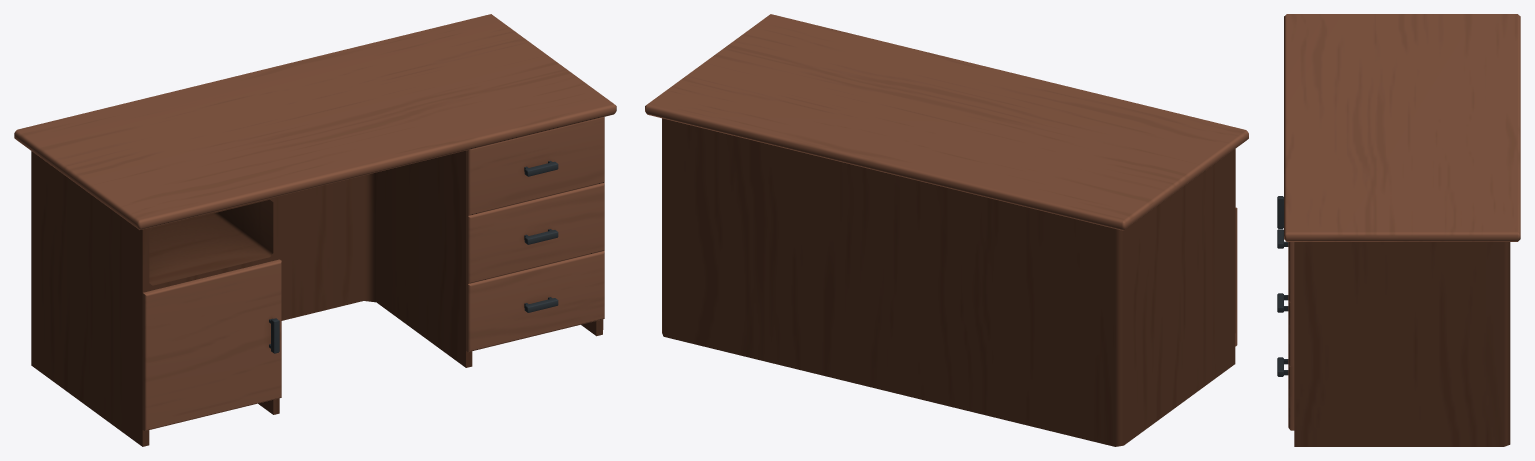
Rendered from Bureau.fbx.
3 renders of one model, left to right at view 1: azimuth 30°, elevation 25°; view 2: azimuth 150°, elevation 25°; view 3: azimuth 270°, elevation 25°, orthographic. The views are drawn at different scales.
Visible parts, largest first — view 1: BureauBase, CabinetDoor, Drawer3, Drawer2, Drawer1; view 2: BureauBase; view 3: BureauBase, Drawer2, Drawer3, Drawer1.
Part boxes in pixels (left/top/right/bottom): BureauBase: left=14, top=14, right=616, bottom=446; CabinetDoor: left=142, top=259, right=281, bottom=431; Drawer3: left=466, top=251, right=604, bottom=352; Drawer2: left=466, top=183, right=604, bottom=283; Drawer1: left=466, top=117, right=604, bottom=215; BureauBase: left=645, top=14, right=1248, bottom=446; BureauBase: left=1284, top=14, right=1520, bottom=446; Drawer2: left=1277, top=293, right=1294, bottom=366; Drawer3: left=1277, top=357, right=1294, bottom=430; Drawer1: left=1277, top=229, right=1294, bottom=302.
Size of the model in its own units: 161 by 74.47 by 75.17.
Materials: 1 (1 with a texture image).
